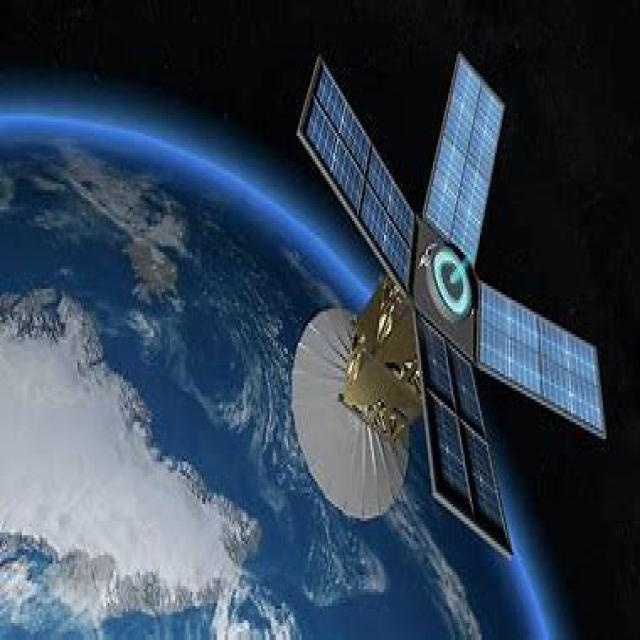satellite: (278, 51, 611, 573)
